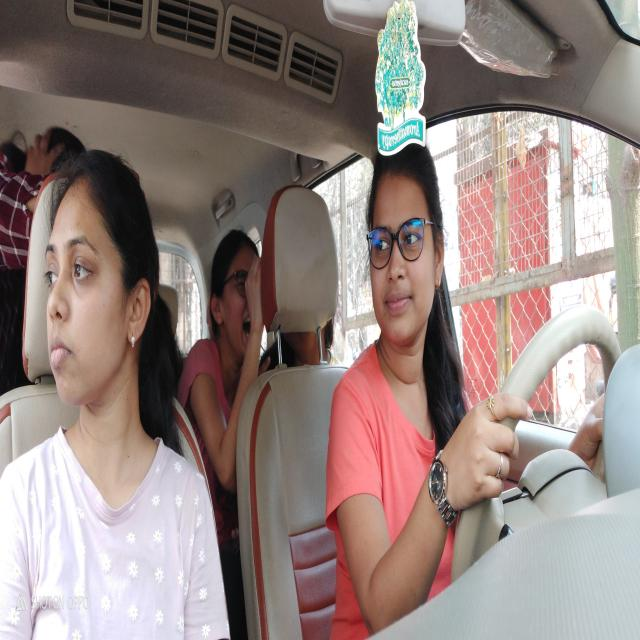LeftRight: (362, 155, 449, 355)
person: (49, 166, 158, 428), (205, 225, 264, 358)
